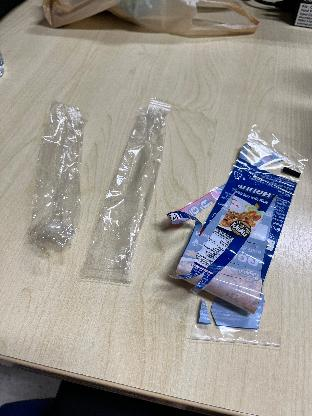Others: (169, 119, 311, 350), (88, 96, 174, 290), (26, 100, 92, 268)
